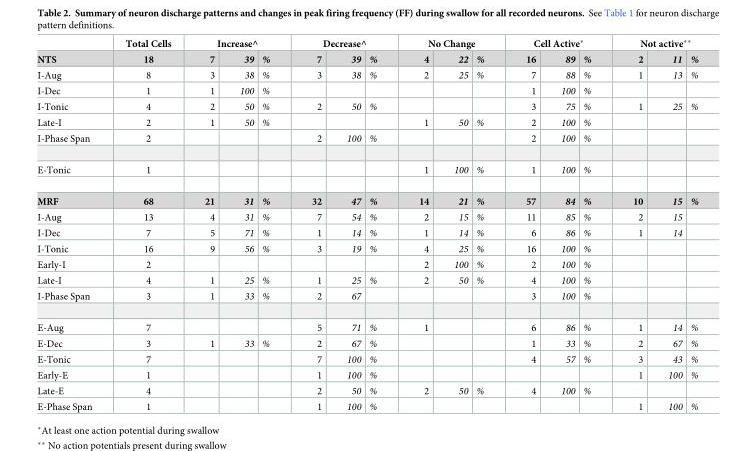table: (36, 36, 697, 412)
table column: (108, 36, 187, 412), (36, 36, 108, 412), (290, 36, 333, 412), (397, 36, 440, 412), (504, 36, 547, 412), (611, 36, 654, 412), (187, 36, 226, 412), (257, 36, 290, 412), (364, 36, 397, 412), (471, 36, 504, 412), (578, 36, 611, 412), (226, 36, 257, 412), (333, 36, 364, 412), (440, 36, 471, 412), (547, 36, 578, 412), (654, 36, 685, 412), (685, 36, 697, 412)
table column header: (36, 36, 697, 66)
table row: (36, 153, 697, 185), (36, 129, 697, 153), (36, 287, 697, 311), (36, 311, 697, 335), (36, 185, 697, 208), (36, 50, 697, 66), (36, 66, 697, 82), (36, 82, 697, 98), (36, 98, 697, 114), (36, 208, 697, 224), (36, 224, 697, 240), (36, 240, 697, 256), (36, 256, 697, 272), (36, 350, 697, 366), (36, 366, 697, 382), (36, 382, 697, 398), (36, 114, 697, 129), (36, 272, 697, 287), (36, 335, 697, 350), (36, 36, 697, 50), (36, 398, 697, 412)
table spanning cell: (108, 36, 187, 66), (36, 36, 108, 66), (290, 36, 397, 50), (397, 36, 504, 50), (504, 36, 611, 50), (187, 36, 290, 50), (611, 36, 697, 50)
